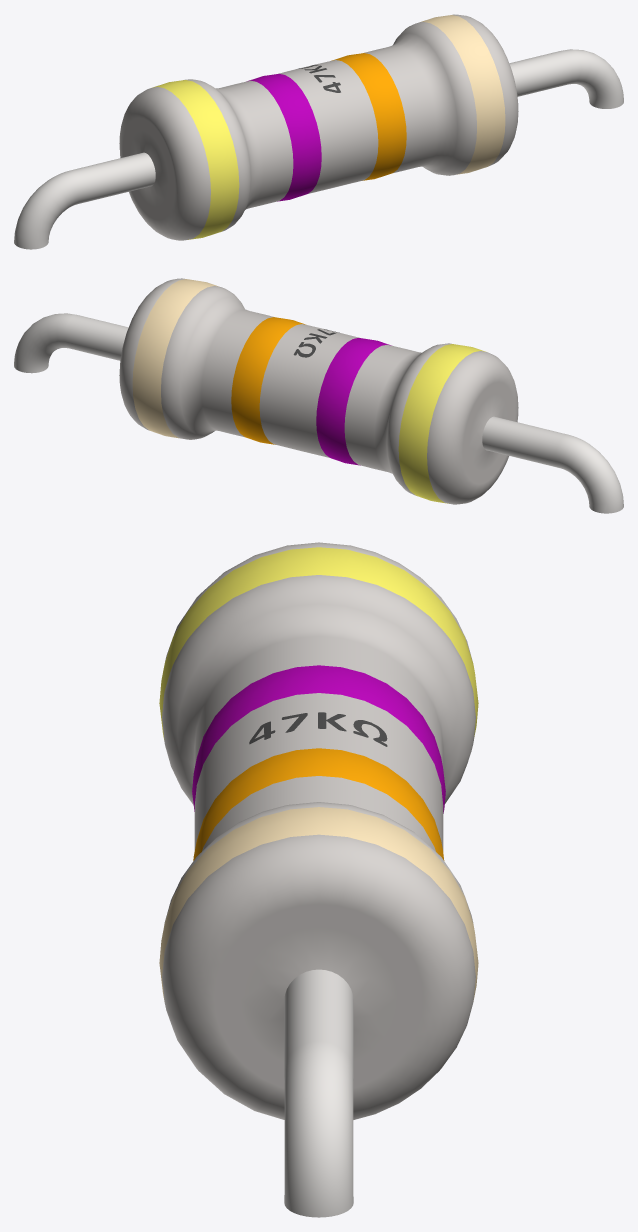
File: reistorcorrect.fbx
3 renders of one model, top to bottom at view 1: azimuth 30°, elevation 25°; view 2: azimuth 150°, elevation 25°; view 3: azimuth 270°, elevation 25°, orthographic. The views are drawn at different scales.
Visible parts, largest first — view 1: Body1; view 2: Body1; view 3: Body1.
Part boxes in pixels (x1=…): Body1: x1=14, y1=14, x2=623, y2=249; Body1: x1=14, y1=278, x2=623, y2=513; Body1: x1=159, y1=542, x2=478, y2=1217.
Bounding box in the file's own units: 1.07 × 0.244 × 0.244.
